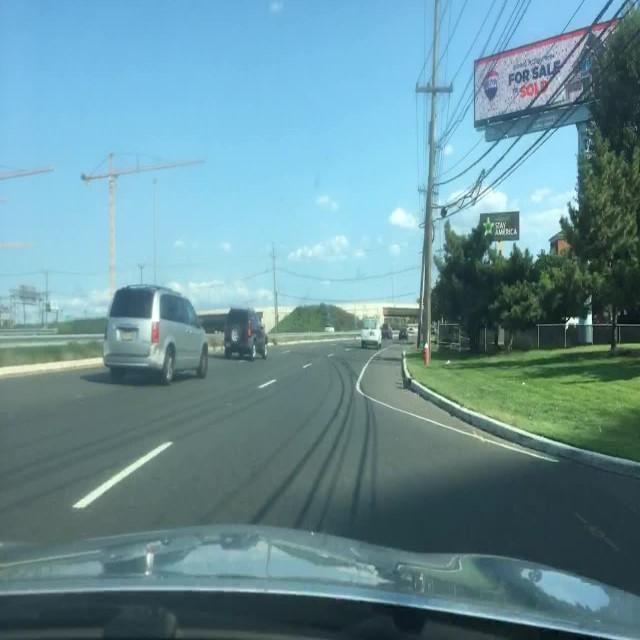normal: (102, 286, 209, 386)
